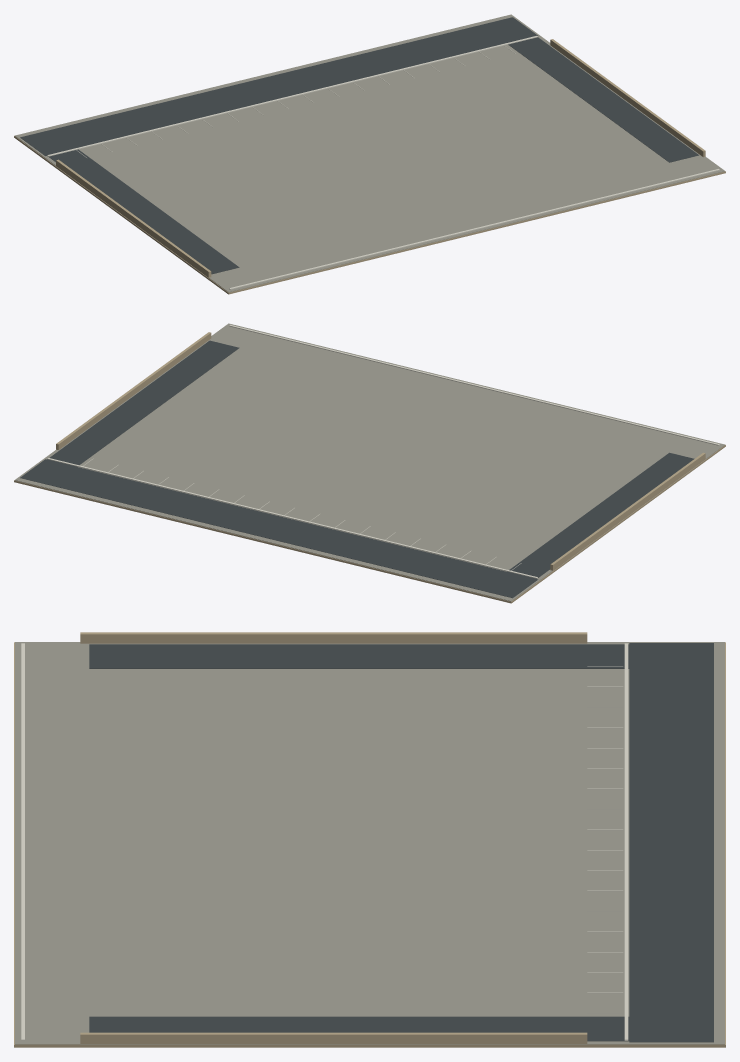
File: KOL_T1_JW__Foundation.fbx
3 renders of one model, top to bottom at view 1: azimuth 30°, elevation 25°; view 2: azimuth 150°, elevation 25°; view 3: azimuth 270°, elevation 25°, orthographic. The views are drawn at different scales.
Visible parts, largest first — view 1: KOL_T1_JW__Foundation__KOL_T1_Paving, KOL_T1_JW__Foundation__KOL_T1_Asphalt, KOL_T1_JW__Foundation__KOL_T1_Stone, KOL_T1_JW__Foundation__KOL_T1_Pearl; view 2: KOL_T1_JW__Foundation__KOL_T1_Paving, KOL_T1_JW__Foundation__KOL_T1_Asphalt, KOL_T1_JW__Foundation__KOL_T1_Stone, KOL_T1_JW__Foundation__KOL_T1_Pearl; view 3: KOL_T1_JW__Foundation__KOL_T1_Paving, KOL_T1_JW__Foundation__KOL_T1_Asphalt, KOL_T1_JW__Foundation__KOL_T1_Stone, KOL_T1_JW__Foundation__KOL_T1_Pearl.
Part boxes in pixels (x1,y1,x2,y2): KOL_T1_JW__Foundation__KOL_T1_Paving: (15,14,724,292); KOL_T1_JW__Foundation__KOL_T1_Asphalt: (20,17,698,274); KOL_T1_JW__Foundation__KOL_T1_Stone: (14,39,725,294); KOL_T1_JW__Foundation__KOL_T1_Pearl: (47,36,719,289); KOL_T1_JW__Foundation__KOL_T1_Paving: (15,323,724,601); KOL_T1_JW__Foundation__KOL_T1_Asphalt: (20,340,694,598); KOL_T1_JW__Foundation__KOL_T1_Stone: (14,332,725,603); KOL_T1_JW__Foundation__KOL_T1_Pearl: (47,324,719,578); KOL_T1_JW__Foundation__KOL_T1_Paving: (15,642,724,1044); KOL_T1_JW__Foundation__KOL_T1_Asphalt: (89,643,713,1042); KOL_T1_JW__Foundation__KOL_T1_Stone: (14,632,725,1047); KOL_T1_JW__Foundation__KOL_T1_Pearl: (21,643,628,1040).
Size of the model in its own units: 316 by 4.75 by 236.
